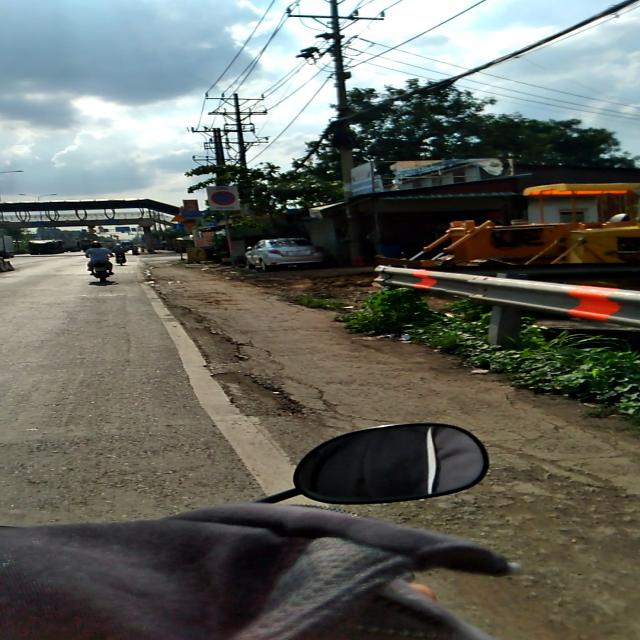P.130: (210, 191, 236, 205)
